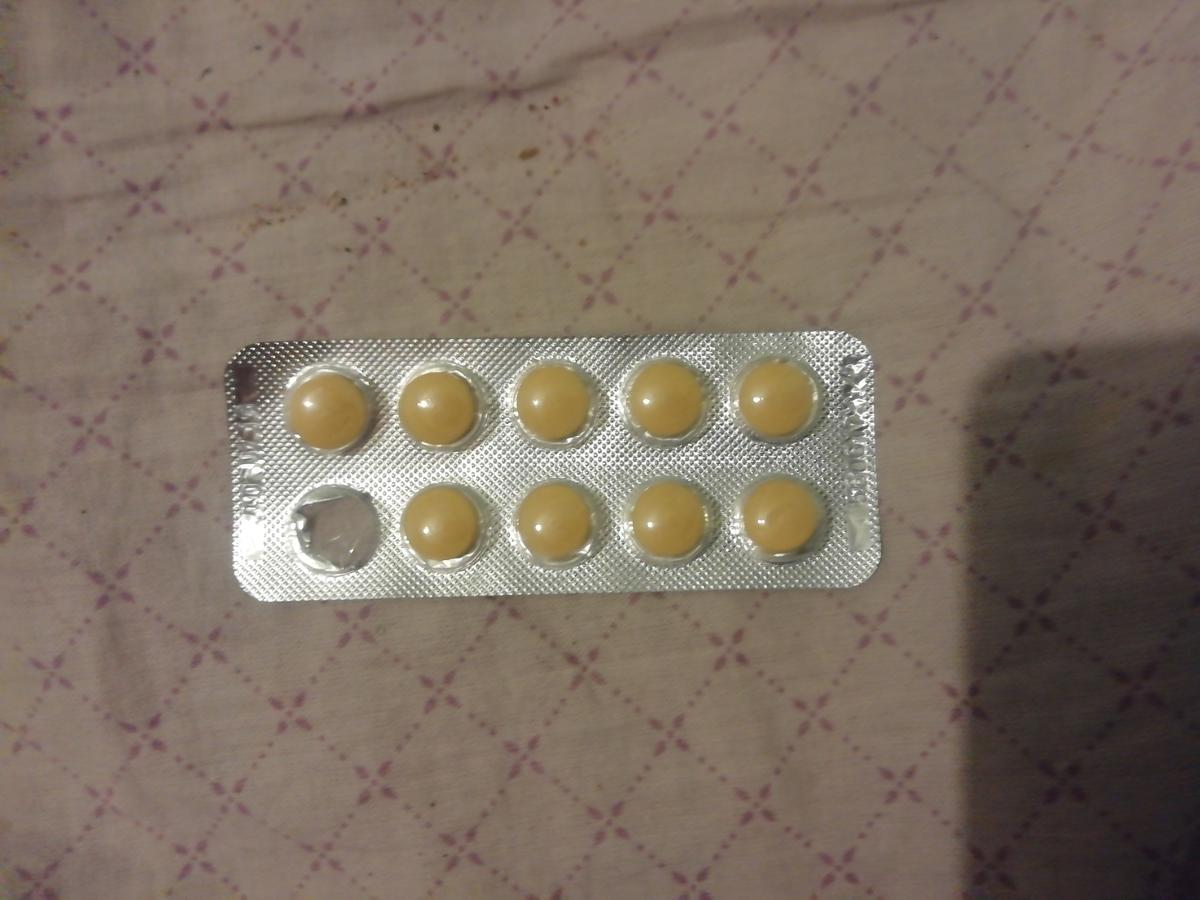tablet: (280, 362, 387, 460), (389, 365, 496, 463), (504, 359, 611, 457), (613, 353, 720, 451), (734, 350, 841, 448), (734, 467, 841, 565), (614, 469, 721, 567), (507, 471, 614, 569), (391, 475, 498, 573)
